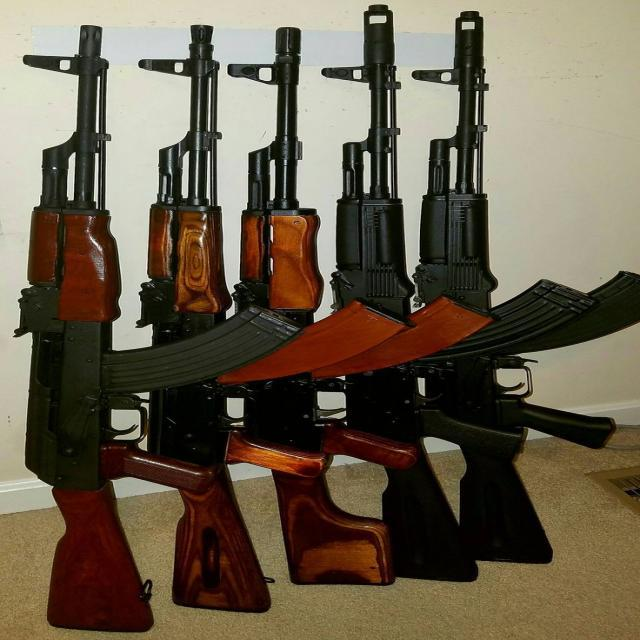ak: (5, 17, 302, 634), (140, 19, 404, 612), (222, 28, 488, 588), (326, 8, 582, 582), (424, 6, 640, 572)
